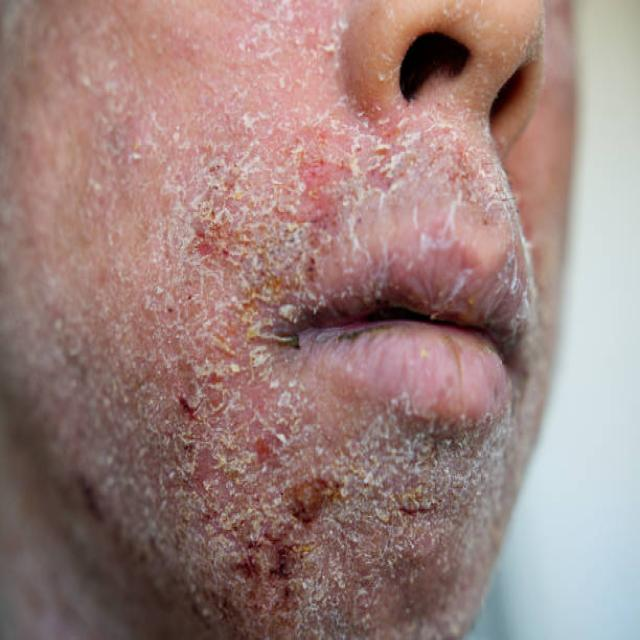flakiness: (98, 144, 422, 579)
